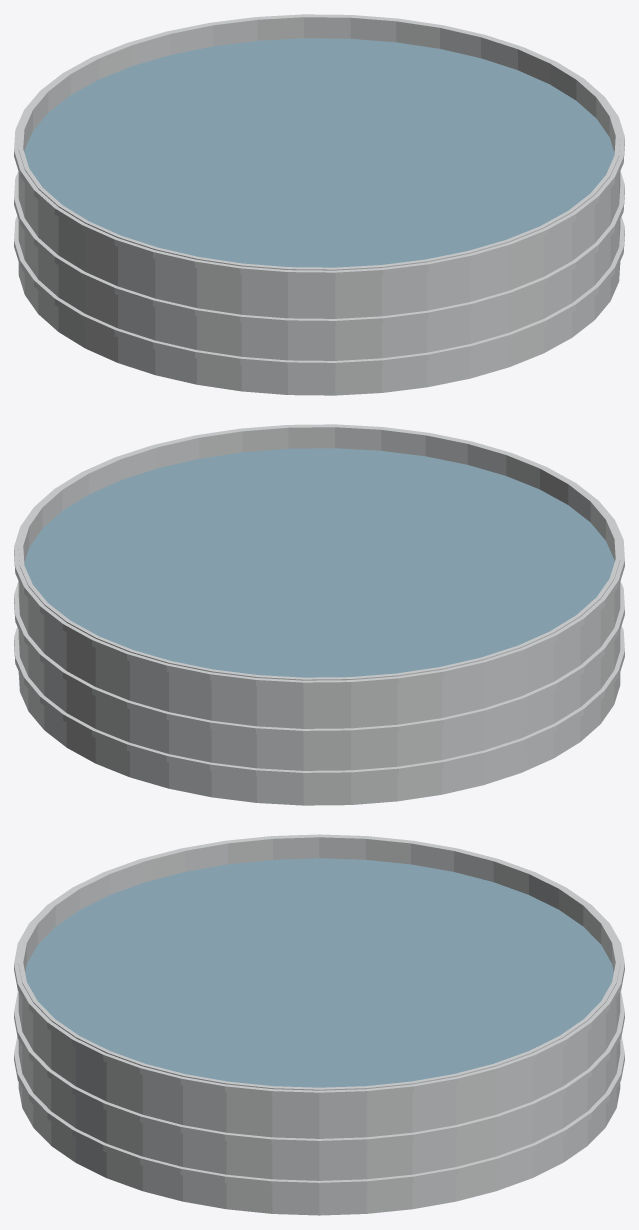
Rendered from stock_tank.glb.
3 renders of one model, top to bottom at view 1: azimuth 30°, elevation 25°; view 2: azimuth 150°, elevation 25°; view 3: azimuth 270°, elevation 25°, orthographic.
Visible parts, largest first — view 1: stock_tank_water, stock_tank_galv; view 2: stock_tank_water, stock_tank_galv; view 3: stock_tank_water, stock_tank_galv.
Boxes of the visible parts, box(x1,y1,x2,y2) form: stock_tank_water: box(24, 38, 614, 267); stock_tank_galv: box(14, 14, 624, 395); stock_tank_water: box(24, 448, 614, 677); stock_tank_galv: box(14, 424, 624, 805); stock_tank_water: box(25, 858, 613, 1087); stock_tank_galv: box(14, 834, 624, 1215).
Size of the model in its own units: 2.64 by 0.6 by 2.64.
